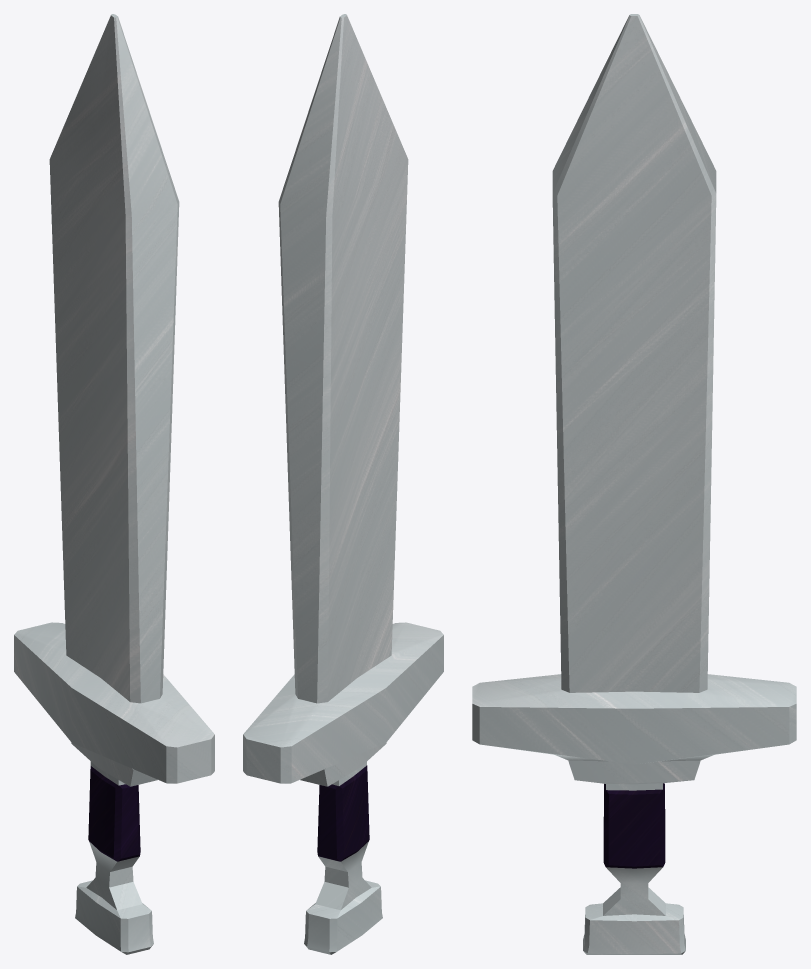
File: SwordS.fbx
3 renders of one model, left to right at view 1: azimuth 30°, elevation 25°; view 2: azimuth 150°, elevation 25°; view 3: azimuth 270°, elevation 25°, orthographic.
Visible parts, largest first — view 1: sword S; view 2: sword S; view 3: sword S.
Boxes of the visible parts, left/top/right/bottom form: sword S: left=14, top=14, right=214, bottom=954; sword S: left=243, top=14, right=443, bottom=954; sword S: left=472, top=14, right=796, bottom=954.
Bounding box in the file's own units: 0.1632 × 1.68 × 0.5277.
